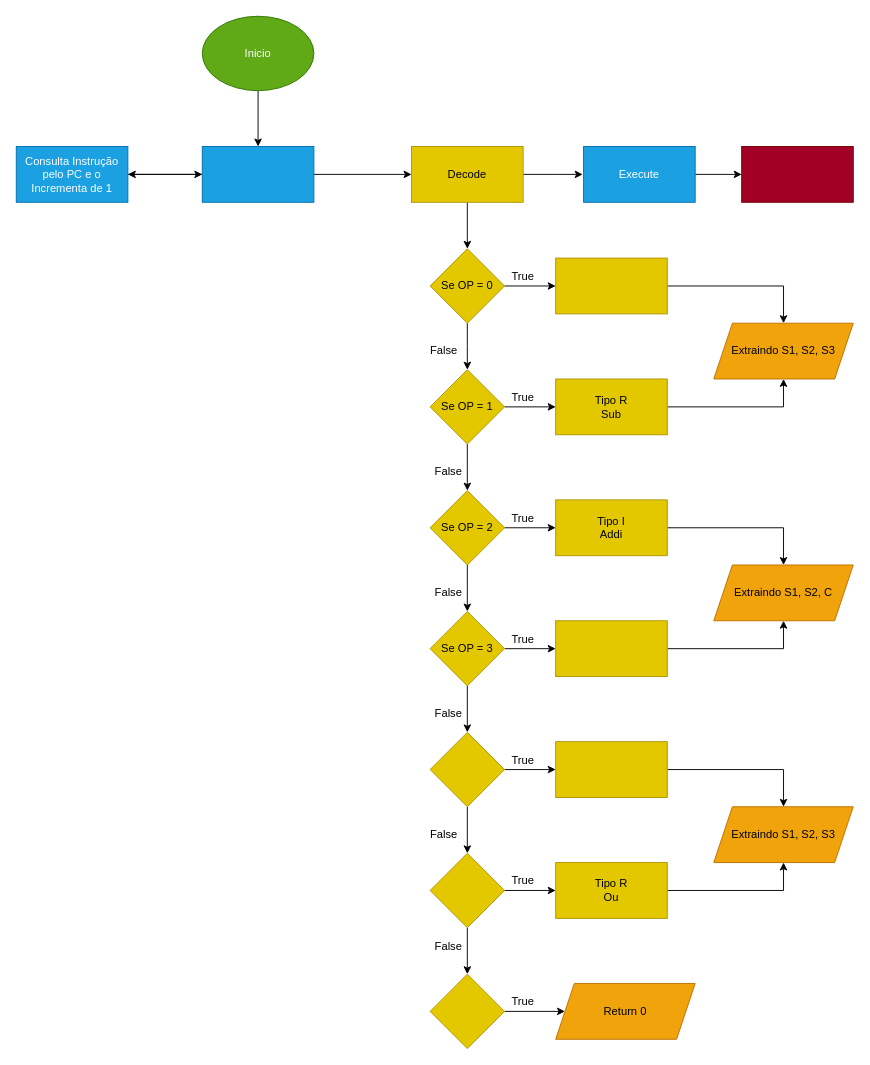
Some shapes in this 870 by 1065 pixel diagram are drawn without their labels. Here are the shapes that lost their labels. From the top down, the centre of each, then its label:
point 257,174: Fetch
point 797,174: Resultado Operação
point 611,285: Tipo R Add
point 611,648: Tipo I Subi
point 467,769: Se OP = 4
point 611,769: Tipo R E
point 467,890: Se OP = 5
point 467,1011: Se OP > 5
